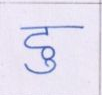u_matra: (24, 58, 59, 75)
